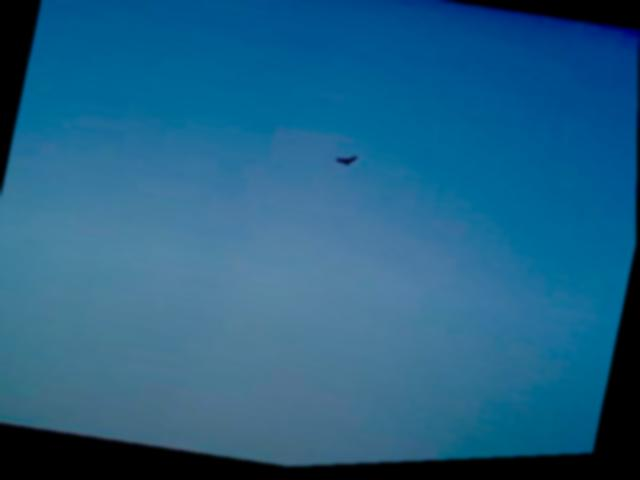iha: (336, 152, 358, 170)
